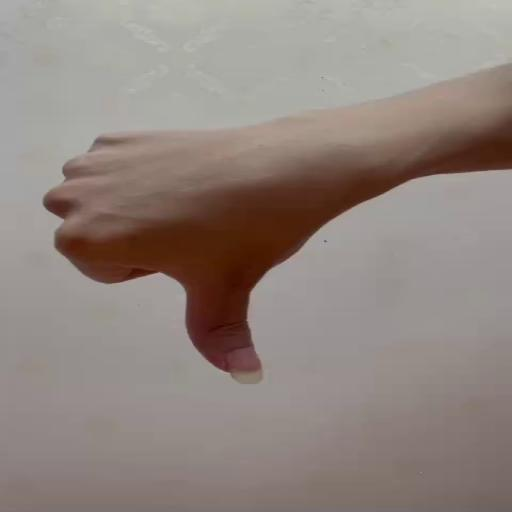thumbs_down: (41, 128, 374, 386)
